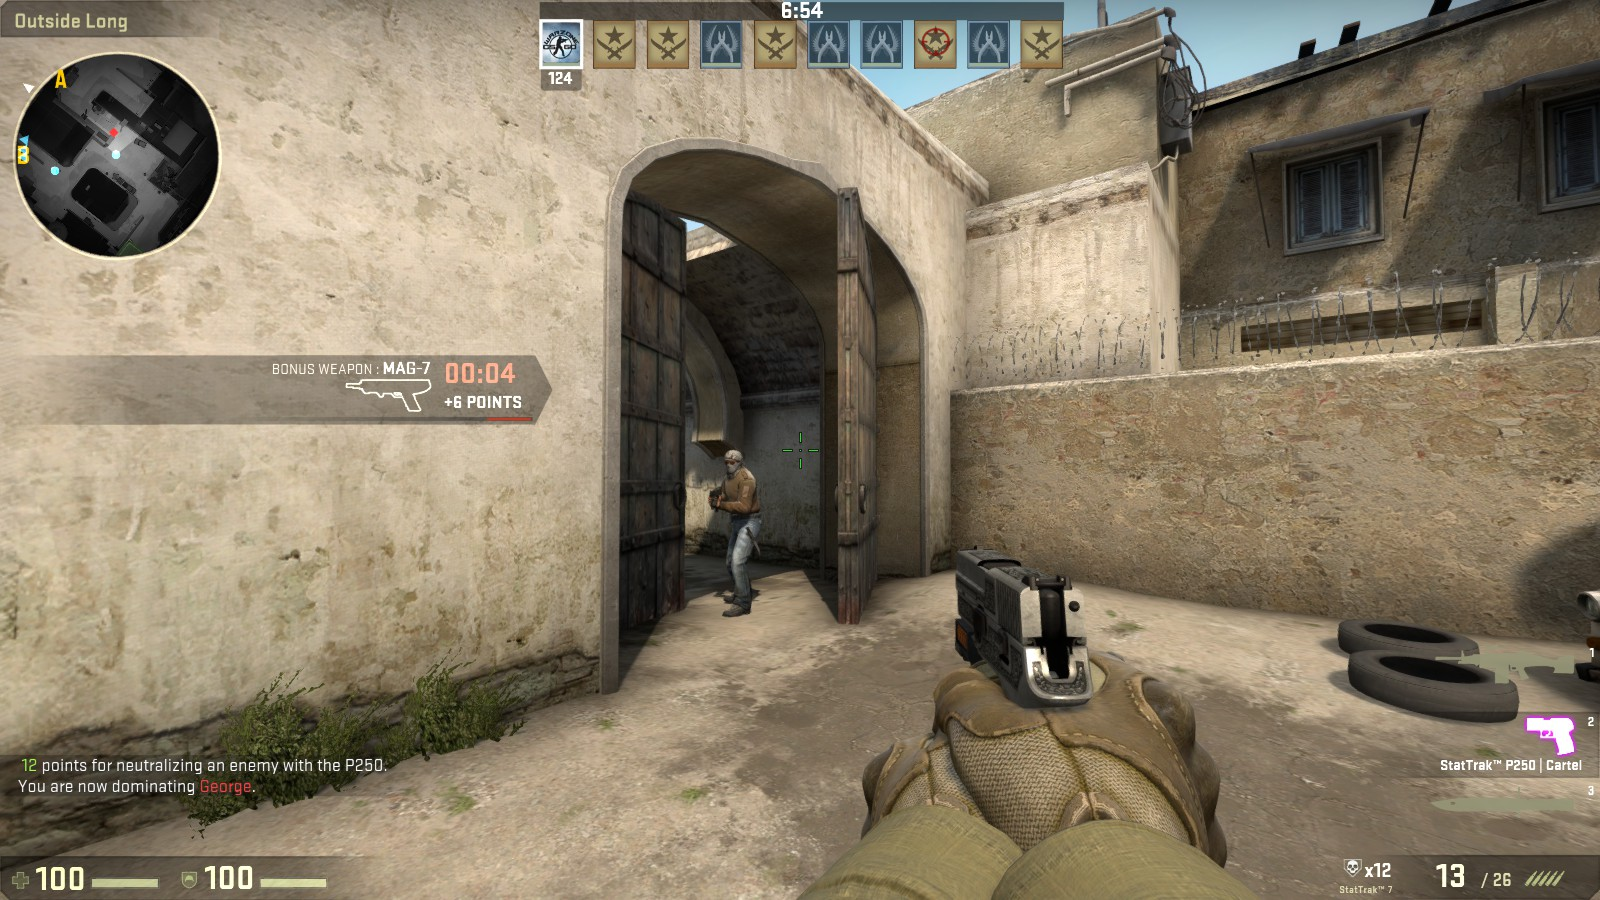t: (709, 448, 763, 616)
th: (721, 448, 746, 476)
